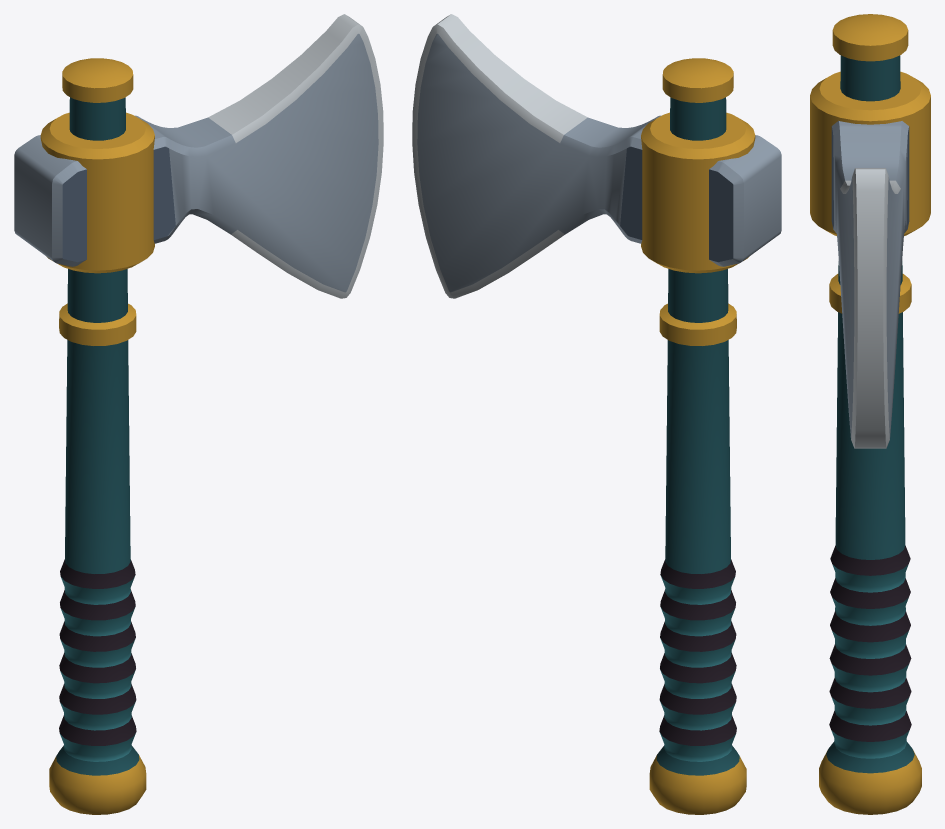
Rendered from Axe_09.glb.
The picture shows the model from 3 angles, left to right: view 1: azimuth 30°, elevation 25°; view 2: azimuth 150°, elevation 25°; view 3: azimuth 270°, elevation 25°; orthographic projection. The views are drawn at different scales.
Parts seen in each view (by area): view 1: Axe_09; view 2: Axe_09; view 3: Axe_09.
Part boxes in pixels (left/top/right/bottom): Axe_09: left=14, top=14, right=383, bottom=814; Axe_09: left=412, top=14, right=781, bottom=814; Axe_09: left=810, top=14, right=930, bottom=814.
Size of the model in its own units: 2.21 by 4.46 by 0.634.
